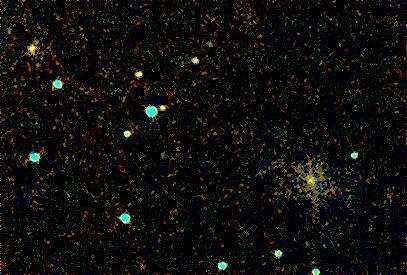star: (146, 90, 176, 120)
